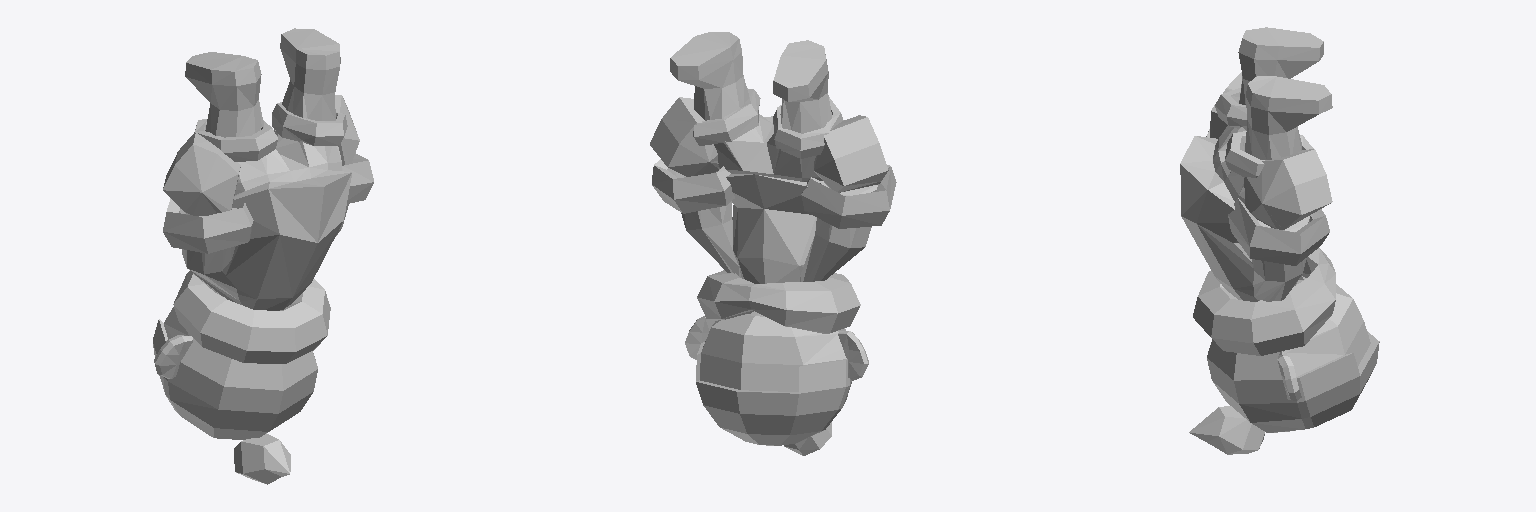
The model's file is eikadebil_000029.obj.
The picture shows the model from 3 angles: view 1: azimuth 30°, elevation 25°; view 2: azimuth 150°, elevation 25°; view 3: azimuth 270°, elevation 25°; orthographic projection.
Parts seen in each view (by area): view 1: Cylinder; view 2: Cylinder; view 3: Cylinder.
Part boxes in pixels (x1,y1,x2,y2): Cylinder: (153,28,373,484); Cylinder: (650,32,896,455); Cylinder: (1180,27,1379,454).
Size of the model in its own units: 29.67 by 54.53 by 23.77.